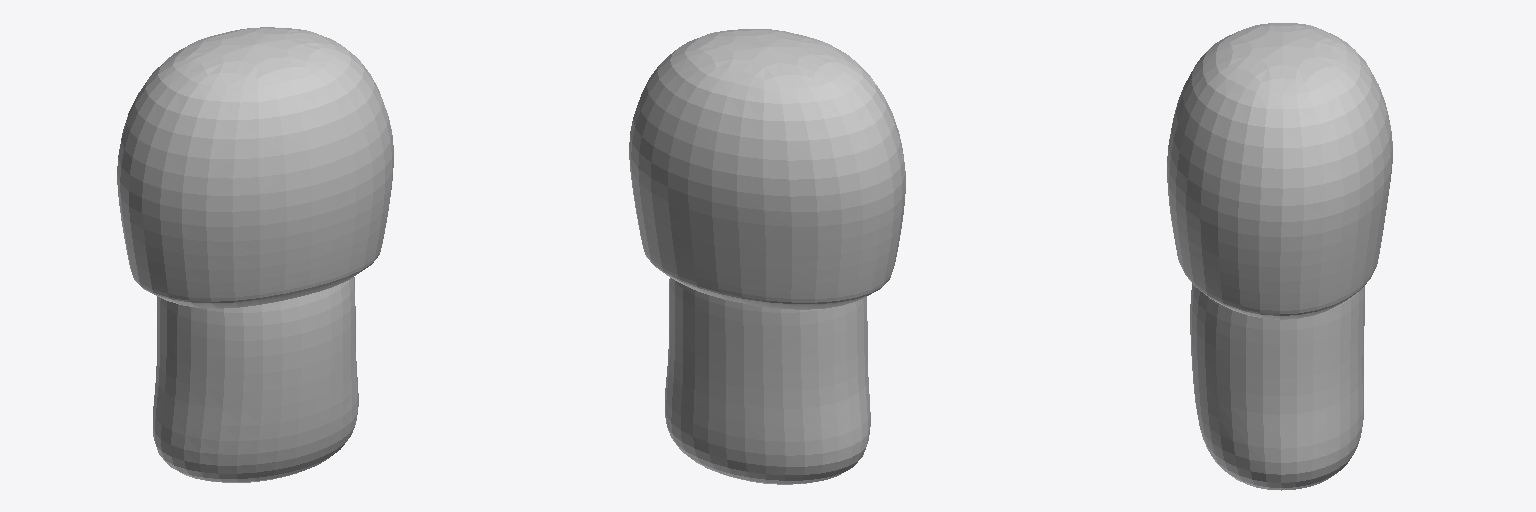
File: Abdomem.obj
3 renders of one model, left to right at view 1: azimuth 30°, elevation 25°; view 2: azimuth 150°, elevation 25°; view 3: azimuth 270°, elevation 25°, orthographic.
Visible parts, largest first — view 1: GEO-Body.009_Body.009; view 2: GEO-Body.009_Body.009; view 3: GEO-Body.009_Body.009.
Boxes of the visible parts, x1,y1,x2,y2 form: GEO-Body.009_Body.009: [117, 27, 393, 482]; GEO-Body.009_Body.009: [629, 29, 905, 484]; GEO-Body.009_Body.009: [1167, 23, 1392, 490].
Bounding box in the file's own units: 0.2098 × 0.3329 × 0.1621.